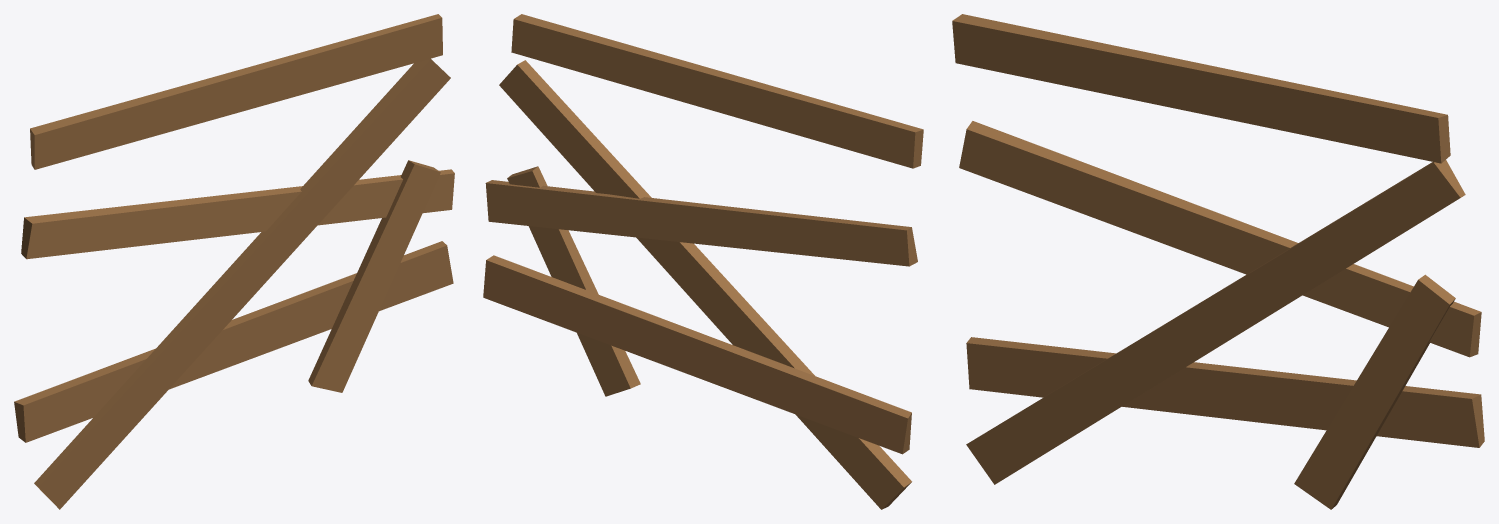
The model's file is Boarded.fbx.
3 renders of one model, left to right at view 1: azimuth 30°, elevation 25°; view 2: azimuth 150°, elevation 25°; view 3: azimuth 330°, elevation 25°, orthographic. The views are drawn at different scales.
Visible parts, largest first — view 1: Boarded; view 2: Boarded; view 3: Boarded.
Boxes of the visible parts, x1=… form: Boarded: x1=14, y1=14, x2=454, y2=509; Boarded: x1=483, y1=14, x2=923, y2=509; Boarded: x1=952, y1=14, x2=1484, y2=509.
Size of the model in its own units: 2.44 by 2.17 by 0.1834.
